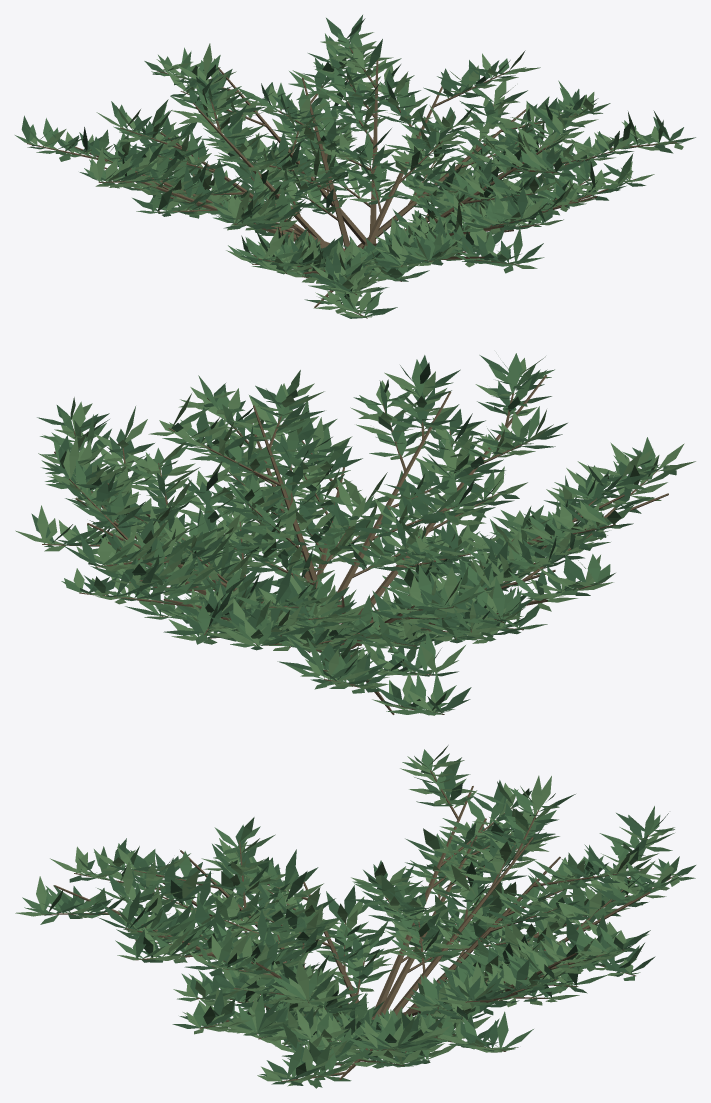
File: bush_21.glb
3 views of the same model, one above another, from view 1: azimuth 30°, elevation 25°; view 2: azimuth 150°, elevation 25°; view 3: azimuth 270°, elevation 25° (orthographic). The views are drawn at different scales.
Parts seen in each view (by area): view 1: bush_21; view 2: bush_21; view 3: bush_21.
Boxes of the visible parts, left/top/right/bottom form: bush_21: left=15, top=15, right=695, bottom=318; bush_21: left=15, top=353, right=695, bottom=715; bush_21: left=15, top=745, right=695, bottom=1088.
Bounding box in the file's own units: 2.83 × 0.7752 × 2.81.
